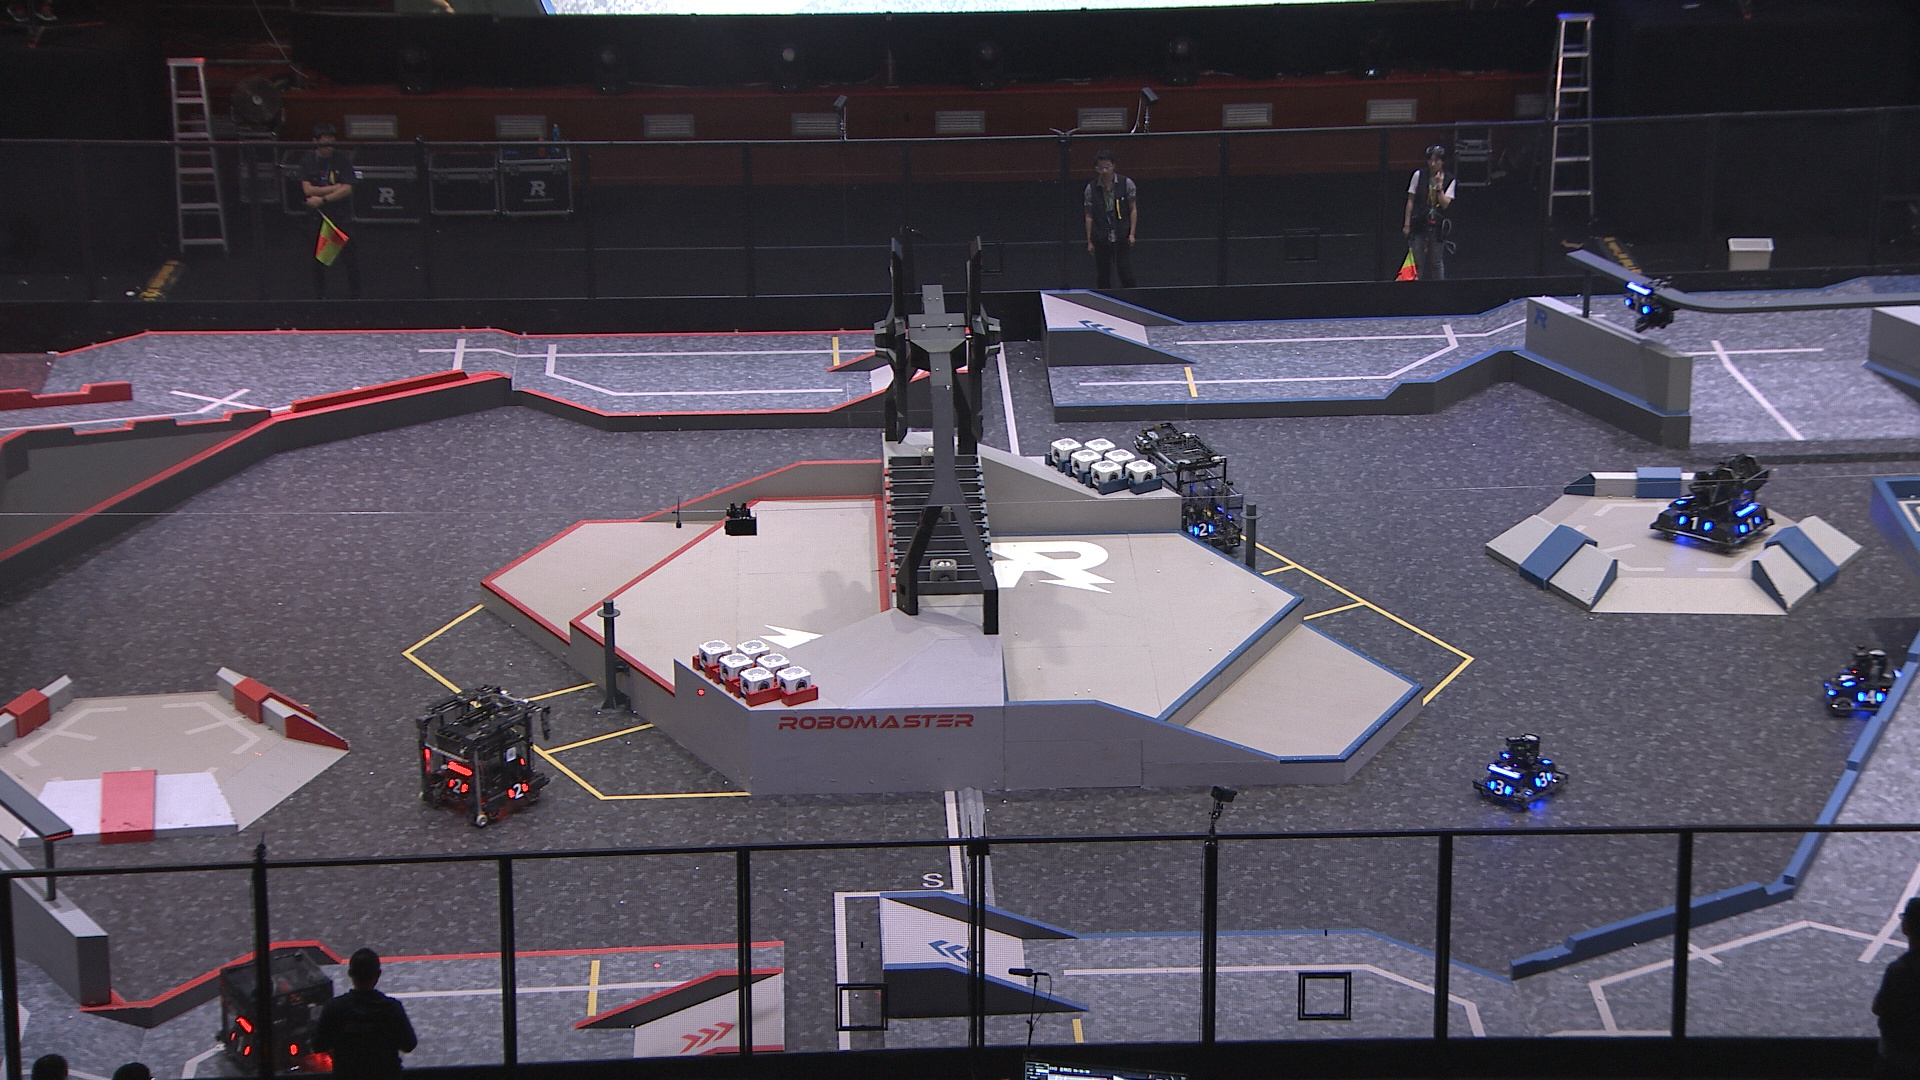armor: (285, 1036, 323, 1059), (1679, 514, 1709, 533), (224, 1033, 249, 1054), (1622, 297, 1647, 316), (1188, 524, 1215, 541), (1490, 778, 1513, 796), (1858, 688, 1884, 703), (448, 777, 467, 796), (509, 782, 529, 798), (1840, 669, 1855, 687), (1536, 770, 1552, 789), (1741, 517, 1760, 531), (1679, 491, 1695, 506)
car: (411, 684, 558, 829), (215, 943, 349, 1076), (1134, 419, 1244, 553), (1650, 454, 1779, 555), (1472, 728, 1563, 806), (1822, 644, 1902, 717)
watcher: (1617, 272, 1680, 334)
